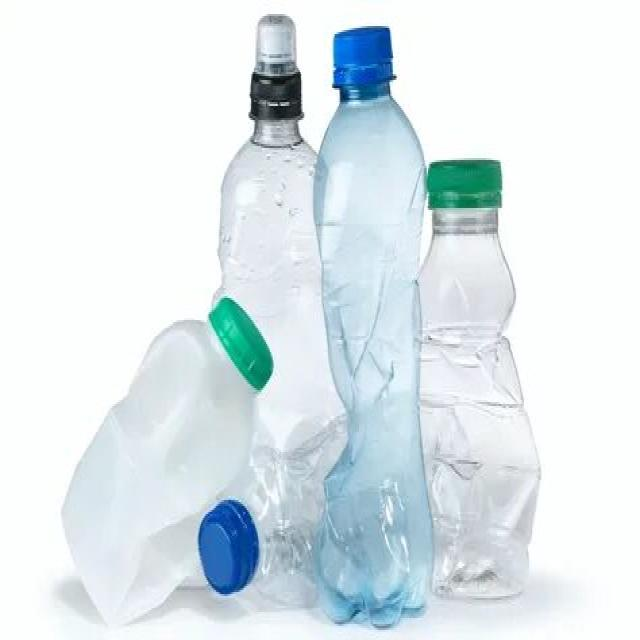blue: (313, 75, 432, 628)
